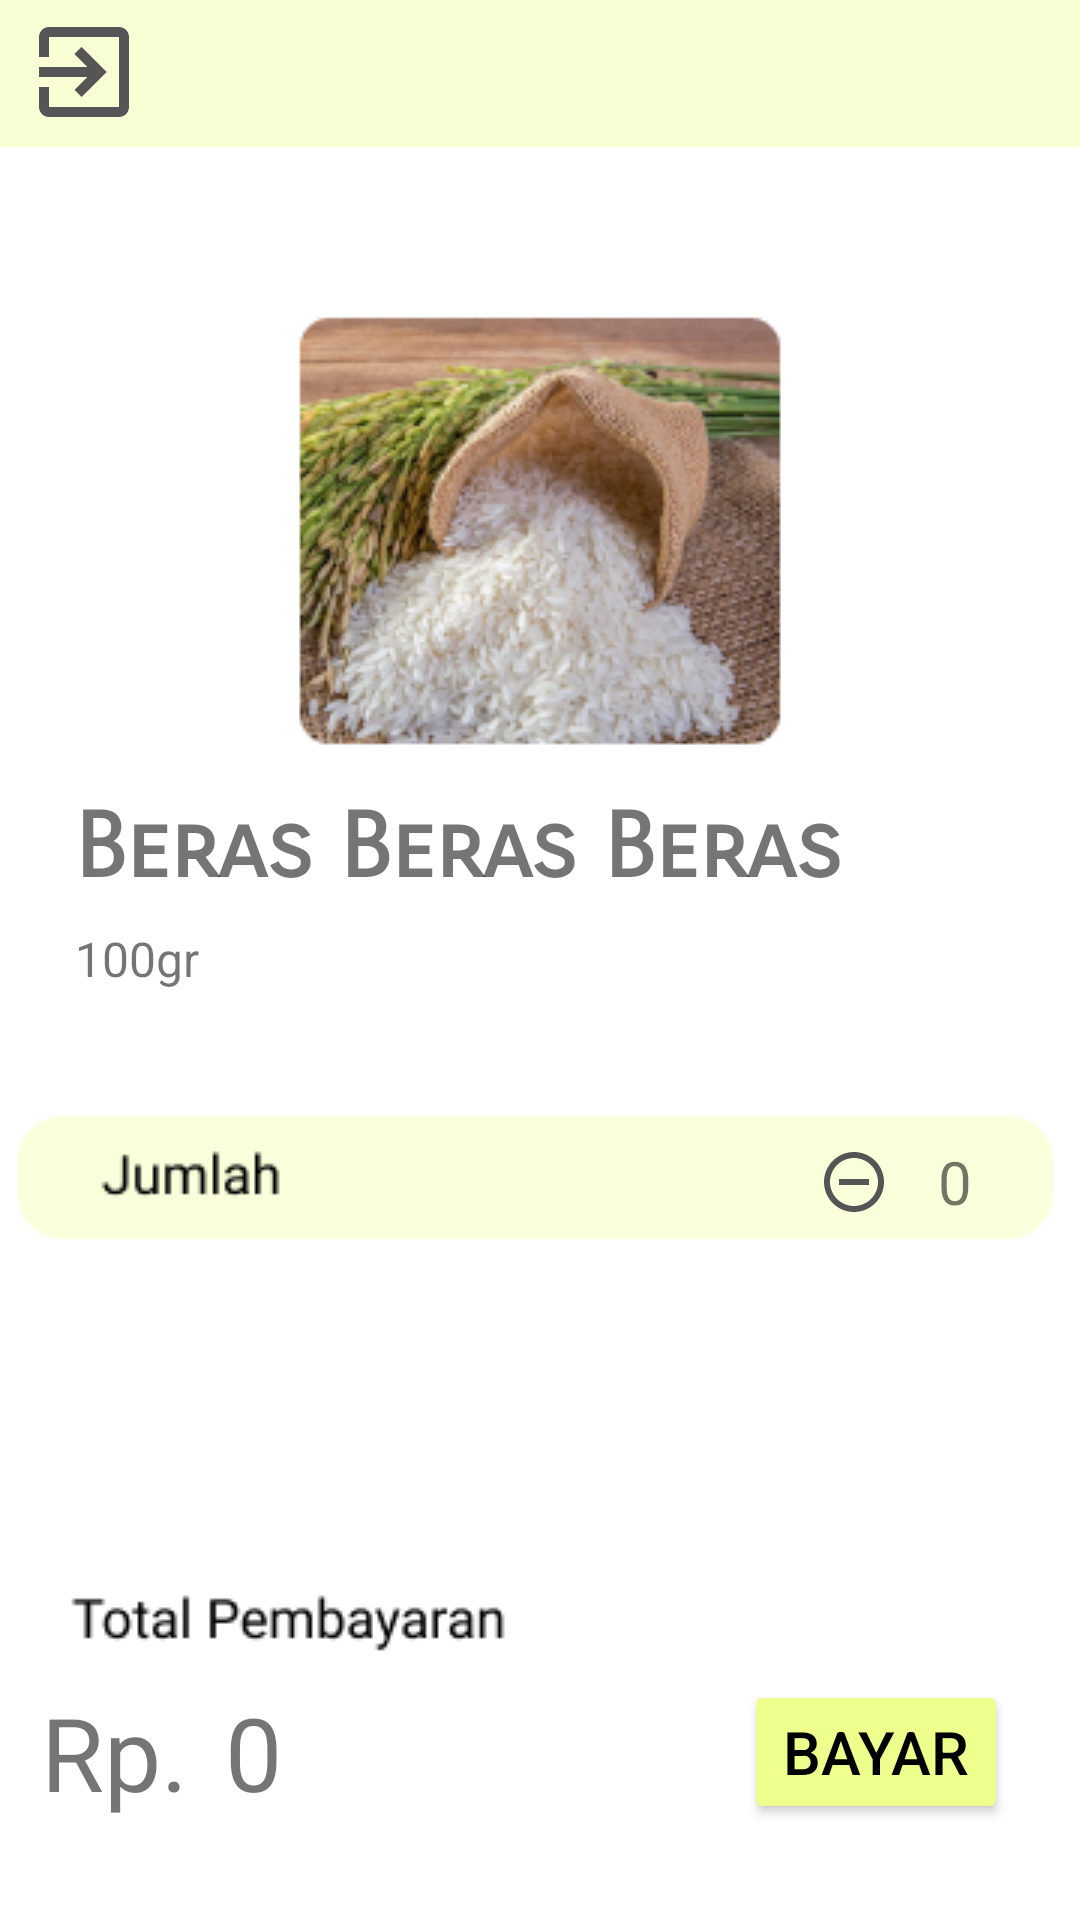

Point at icon controls on the screen. Image size 1080x1920, points as (x,y).
exit to app: (84,72)
remove circle: (854,1182)
